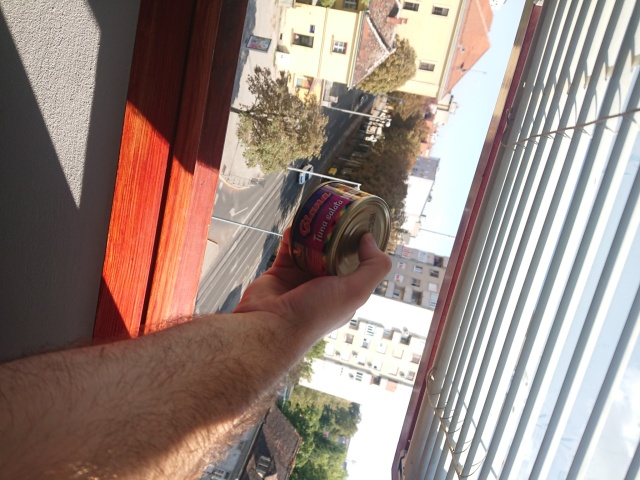Giana Tuna Salad Mexico 185g: (286, 178, 394, 290)
